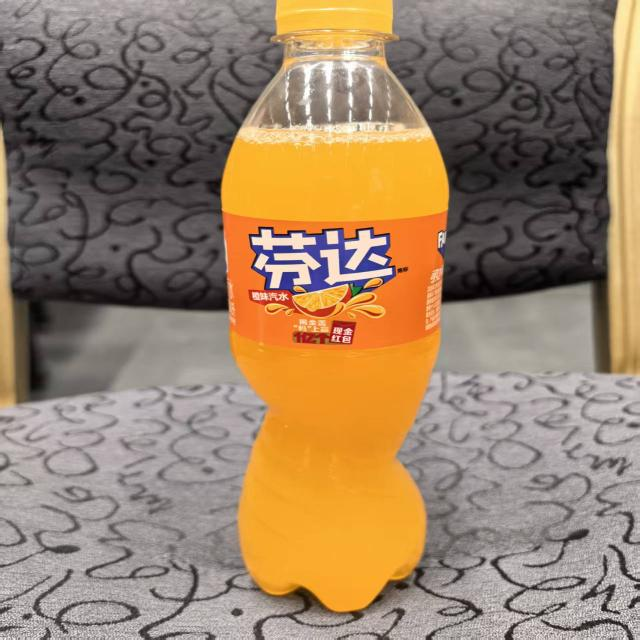orange: (238, 222, 412, 332)
